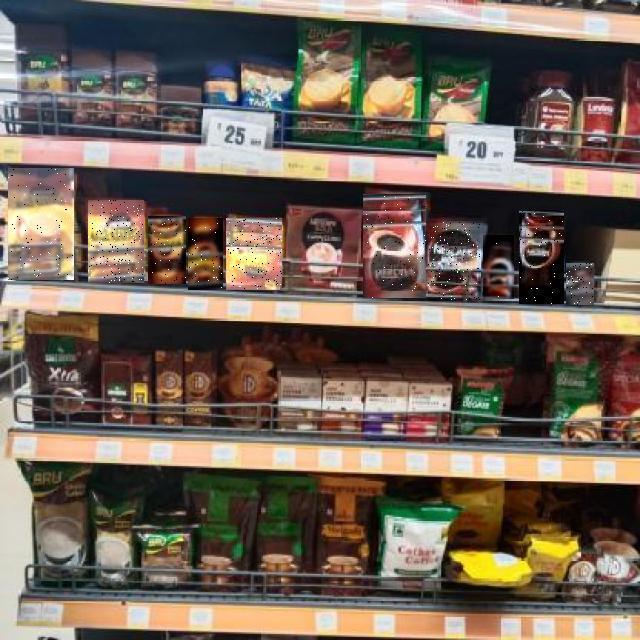Coffee: (9, 168, 75, 280), (363, 194, 426, 298), (88, 200, 144, 283), (519, 210, 564, 304), (429, 222, 481, 300), (227, 218, 283, 290), (148, 216, 186, 284), (188, 218, 223, 290), (483, 235, 514, 299), (566, 263, 594, 305)
